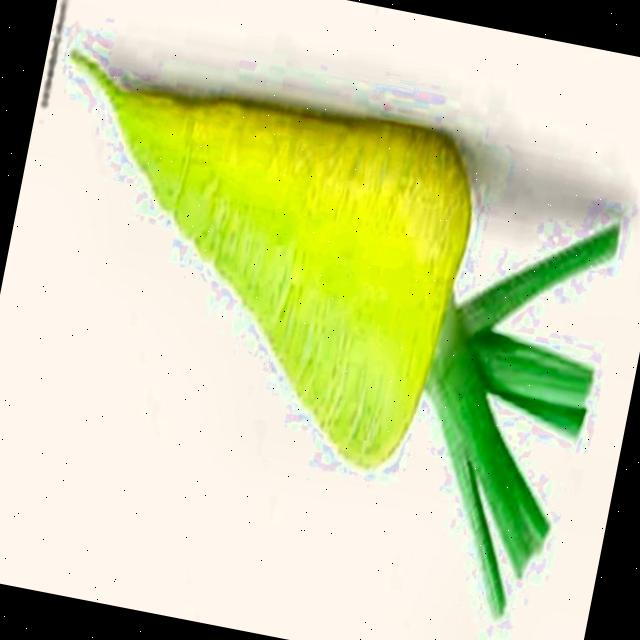carrot: (73, 54, 616, 616)
